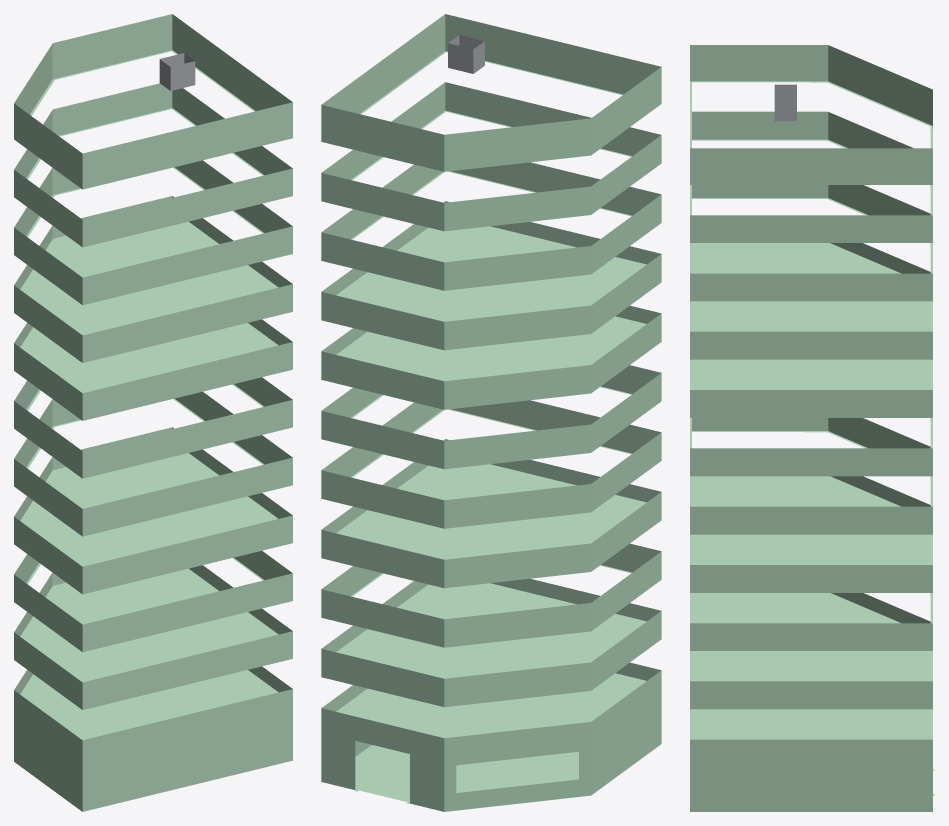
File: Bld_R_high_L4_B.fbx
The picture shows the model from 3 angles, left to right: view 1: azimuth 30°, elevation 25°; view 2: azimuth 150°, elevation 25°; view 3: azimuth 270°, elevation 25°; orthographic projection. The views are drawn at different scales.
Parts seen in each view (by area): view 1: Bld_R_high_L4_B_LOD0; view 2: Bld_R_high_L4_B_LOD0; view 3: Bld_R_high_L4_B_LOD0.
Part boxes in pixels (bbox=[...]): Bld_R_high_L4_B_LOD0: bbox=[14, 14, 292, 811]; Bld_R_high_L4_B_LOD0: bbox=[321, 14, 661, 811]; Bld_R_high_L4_B_LOD0: bbox=[690, 45, 934, 811].
Size of what is drawn, in the model's own units: 2200 by 7140 by 2200.
Materials: 1 (1 with a texture image).
